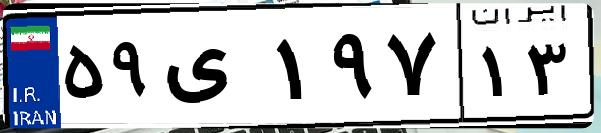1: (270, 28, 330, 110), (475, 38, 525, 113)
3: (525, 38, 570, 115)
5: (57, 26, 110, 100)
7: (385, 28, 445, 110)
9: (330, 28, 385, 110), (110, 28, 158, 98)
ی: (158, 20, 270, 120)
